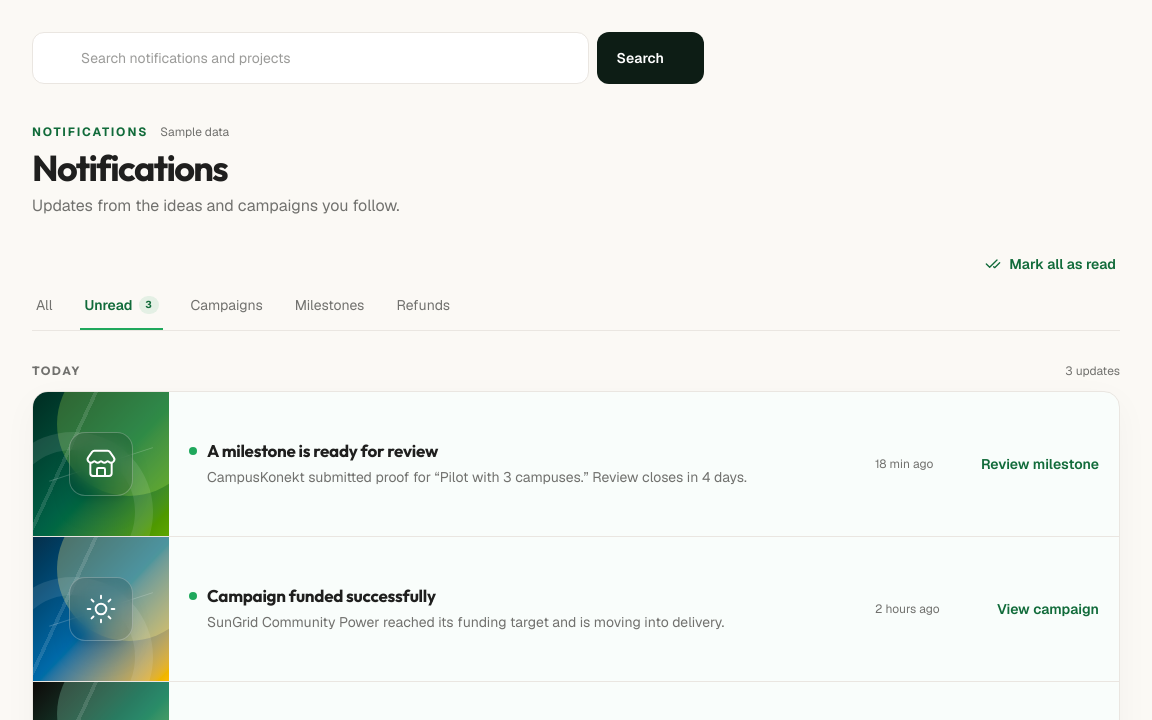
Test case: NotificationsDashboard › shows the caught-up state after clearing the unread queue
This screenshot has width=1152, height=720.
Click the button "Mark all as read".
click(1051, 264)  # box [981,242,1120,286]
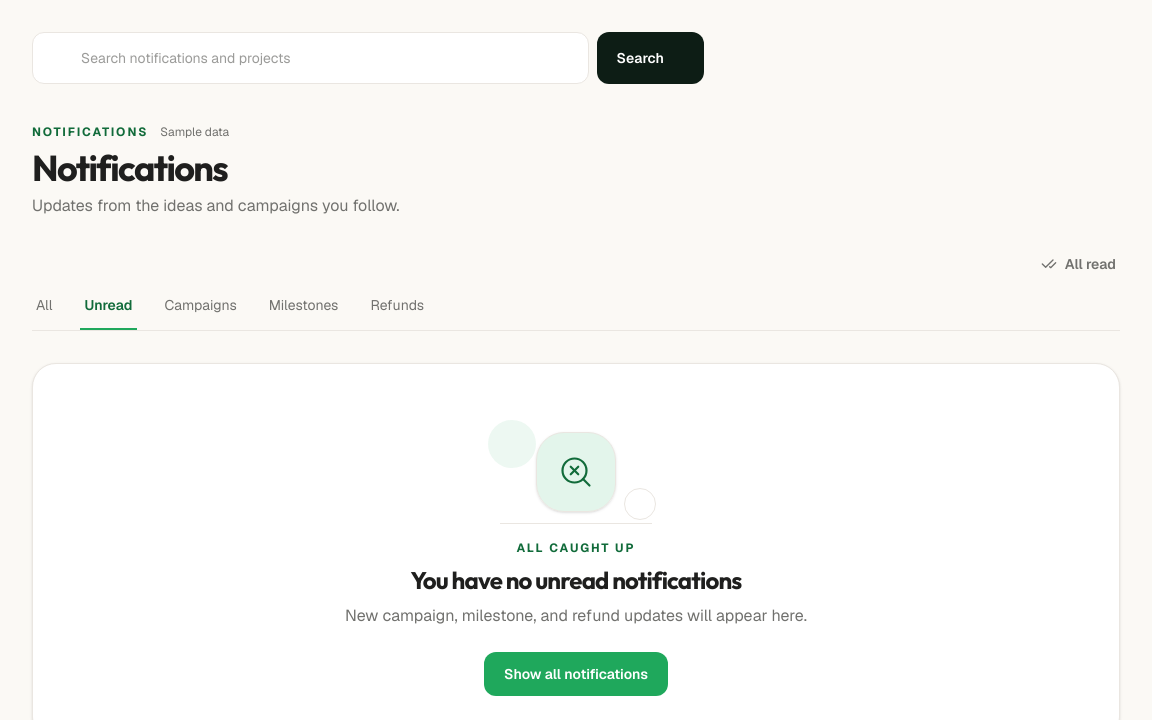
Expected: the heading "You have no unread notifications" is shown, [410,565,741,595]
